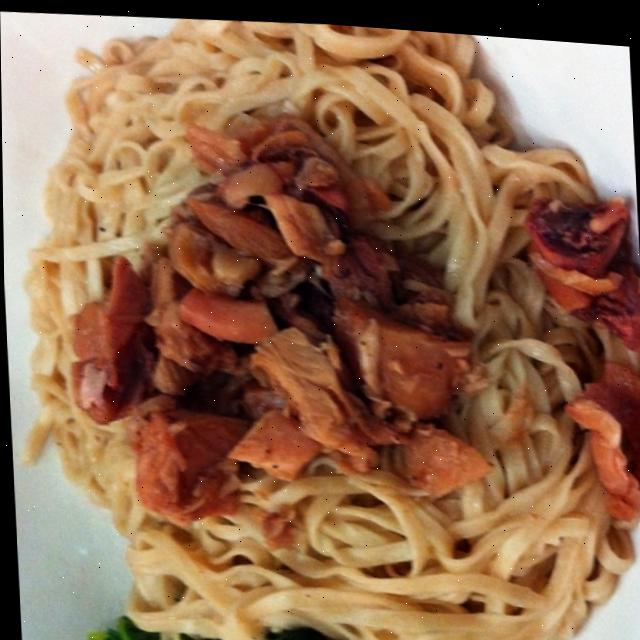面条主食: (4, 4, 640, 640)
